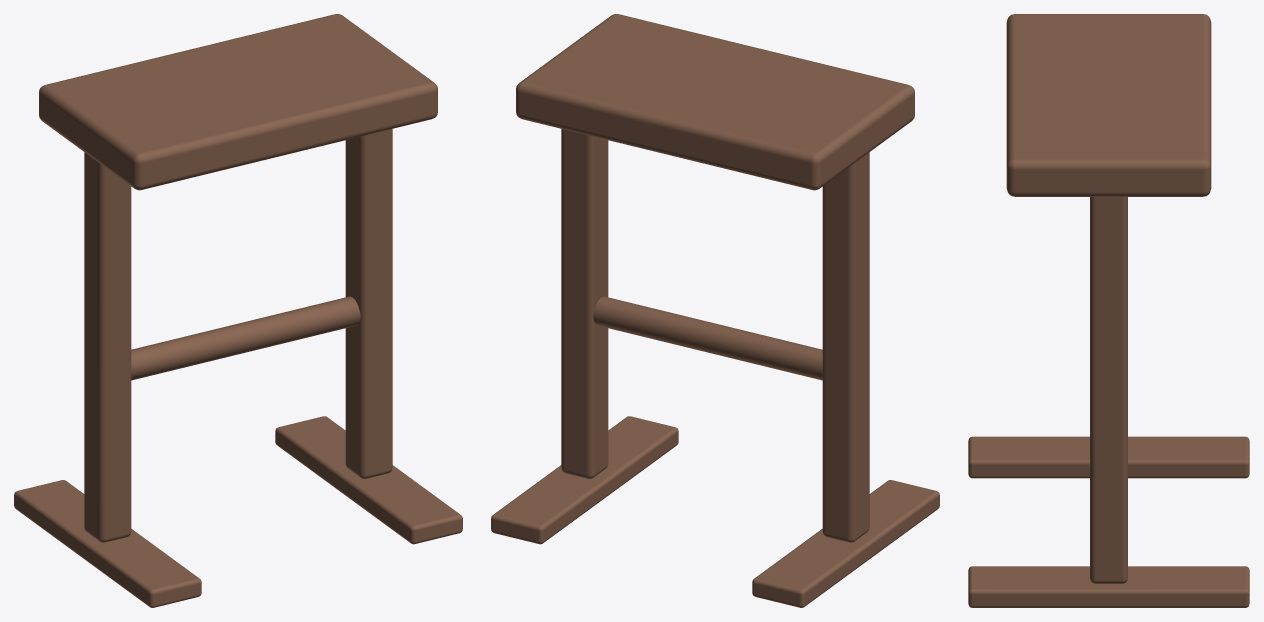
Rendered from griffin-airmail-roost-and-posthouse-saddle-stand-f987c507__30505.glb.
The picture shows the model from 3 angles, left to right: view 1: azimuth 30°, elevation 25°; view 2: azimuth 150°, elevation 25°; view 3: azimuth 270°, elevation 25°; orthographic projection.
Visible parts, largest first — view 1: saddle-stand; view 2: saddle-stand; view 3: saddle-stand.
Boxes of the visible parts, x1,y1,x2,y2 form: saddle-stand: (14, 14, 462, 607); saddle-stand: (491, 14, 939, 607); saddle-stand: (968, 14, 1249, 607).
Size of the model in its own units: 0.72 by 0.96 by 0.55.
